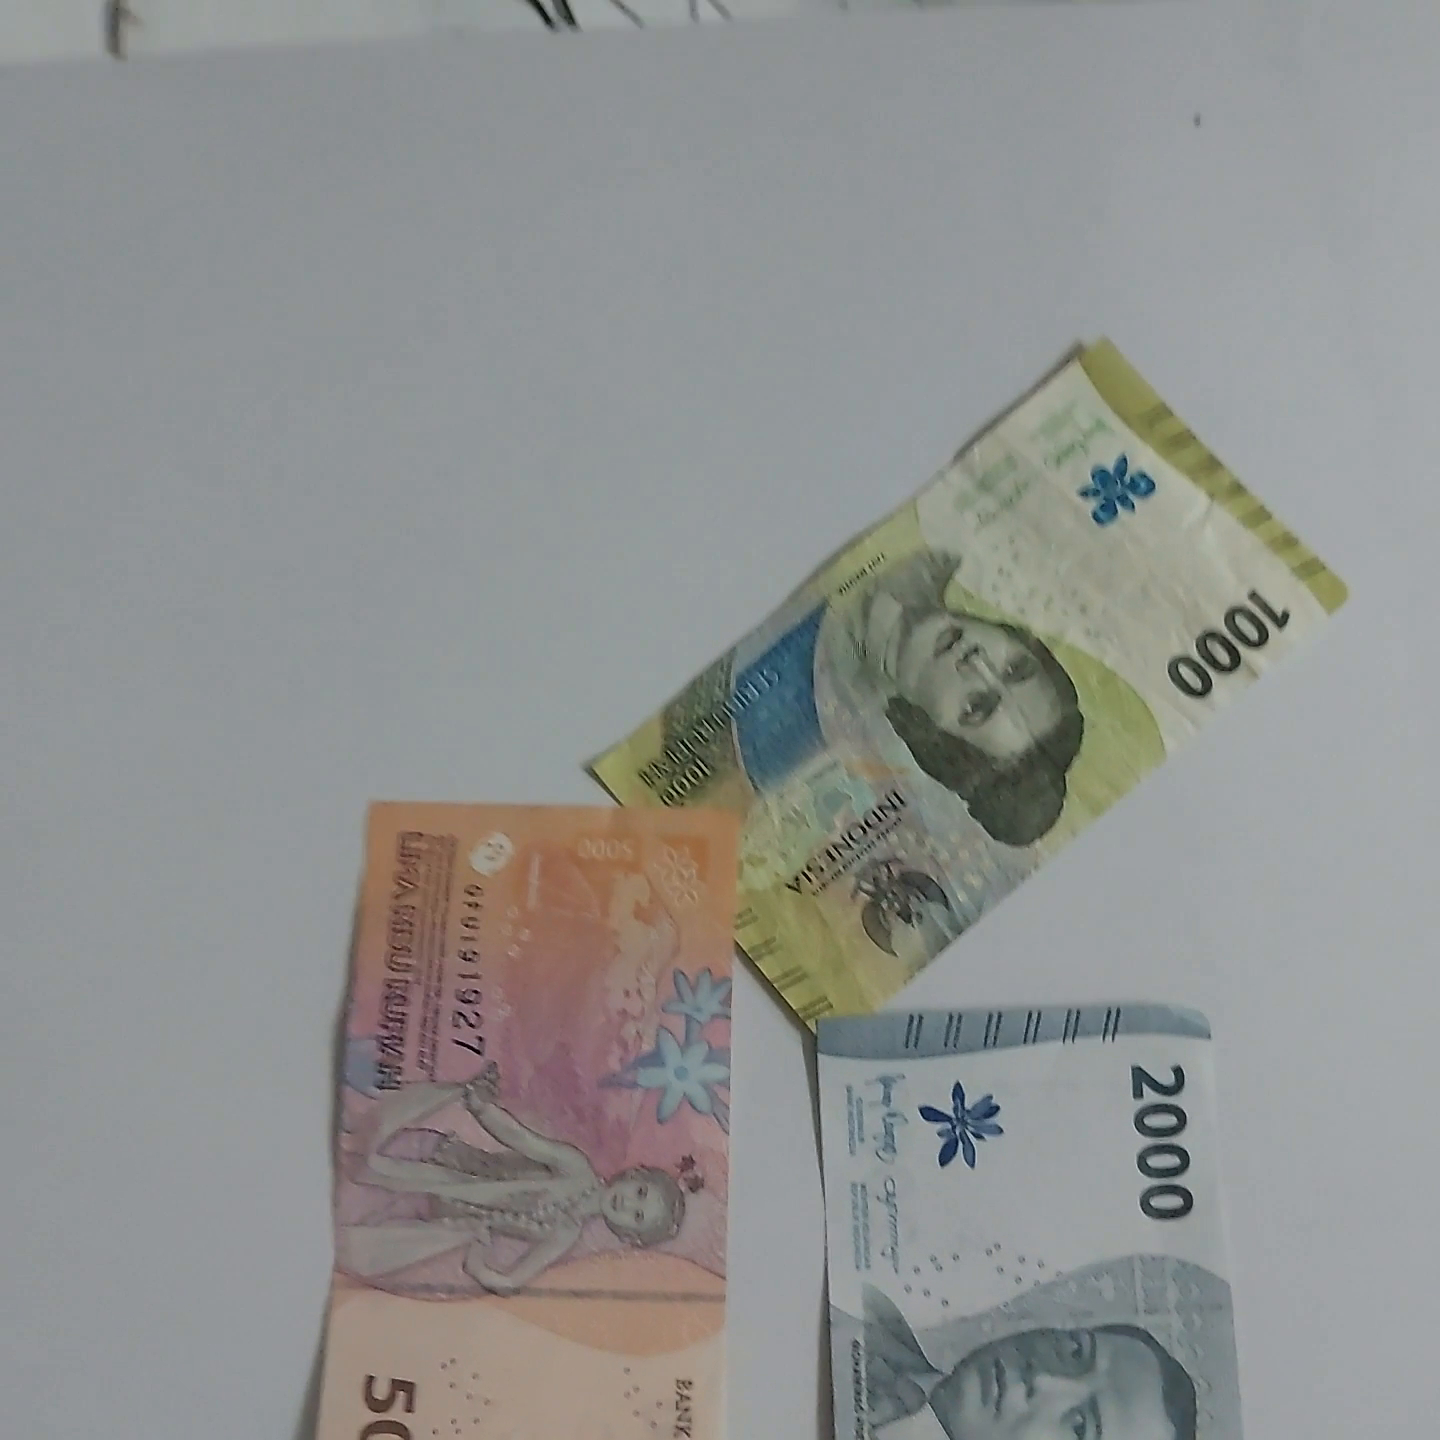1k: (595, 331, 1378, 1042)
2k: (799, 1006, 1221, 1440)
5k: (315, 754, 742, 1440)
